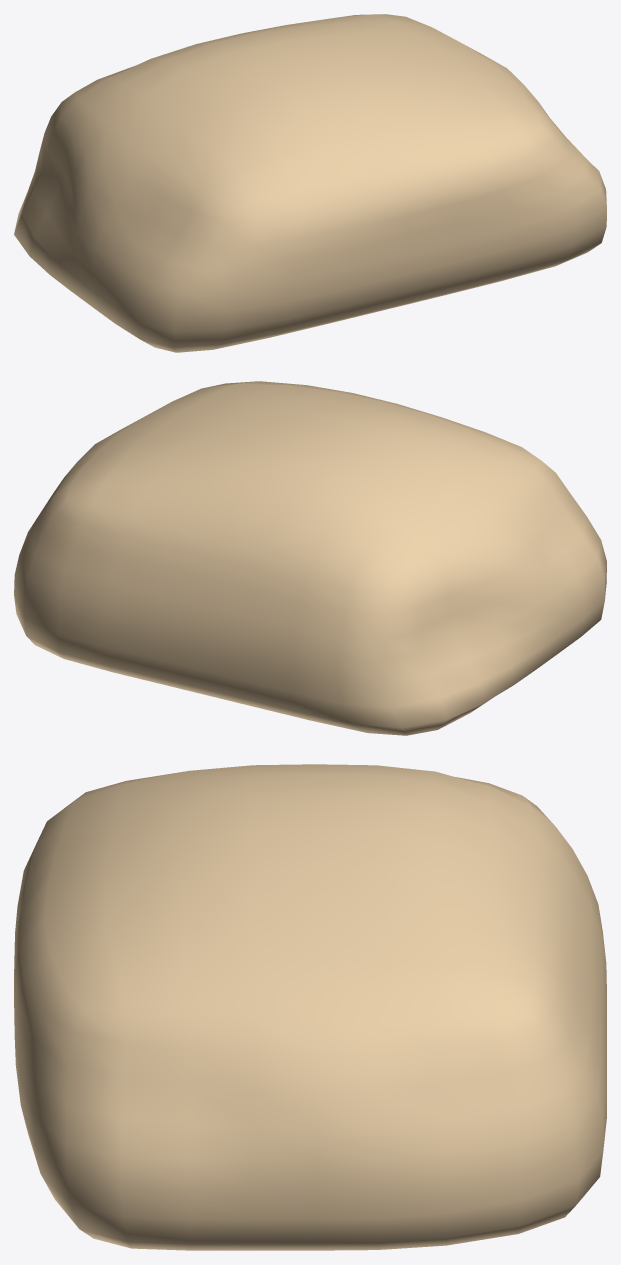
File: maSSSAA (1).fbx
The picture shows the model from 3 angles, top to bottom: view 1: azimuth 30°, elevation 25°; view 2: azimuth 150°, elevation 25°; view 3: azimuth 270°, elevation 25°; orthographic projection. The views are drawn at different scales.
Visible parts, largest first — view 1: Cube; view 2: Cube; view 3: Cube.
Boxes of the visible parts, x1,y1,x2,y2 form: Cube: (14, 14, 606, 352); Cube: (14, 381, 606, 735); Cube: (14, 764, 606, 1250).
Bounding box in the file's own units: 311 × 125 × 239.
